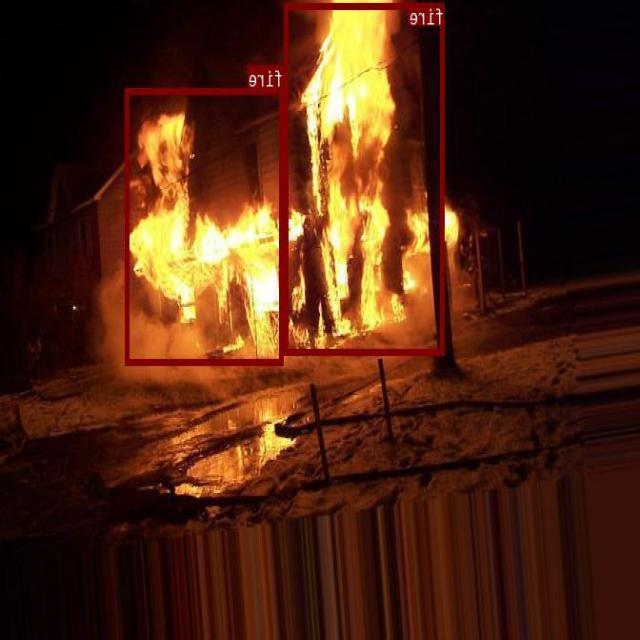fire: (285, 1, 445, 354), (126, 87, 285, 364)
